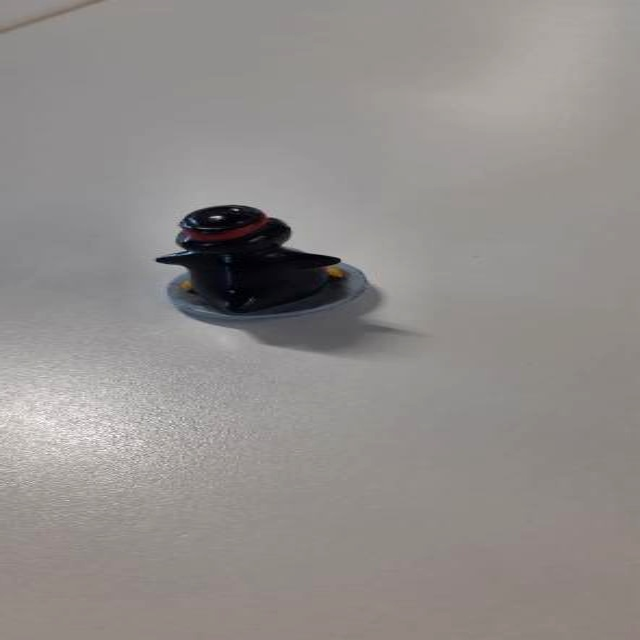Penguin: (156, 200, 373, 328)
